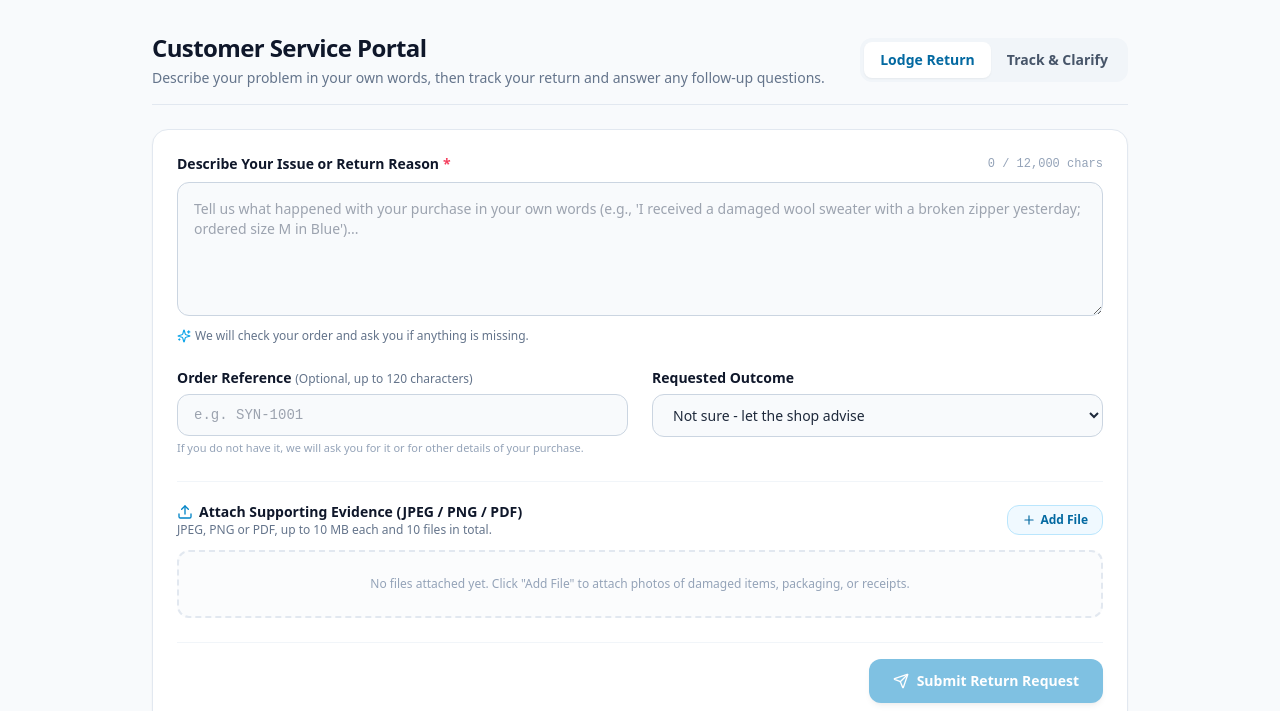
Test: CustomerPortal: My Requests › opens a listed request on Track & Clarify without typing its case ID
Click the button "Track & Clarify" at (1057, 60), box left=991, top=42, right=1124, bottom=78
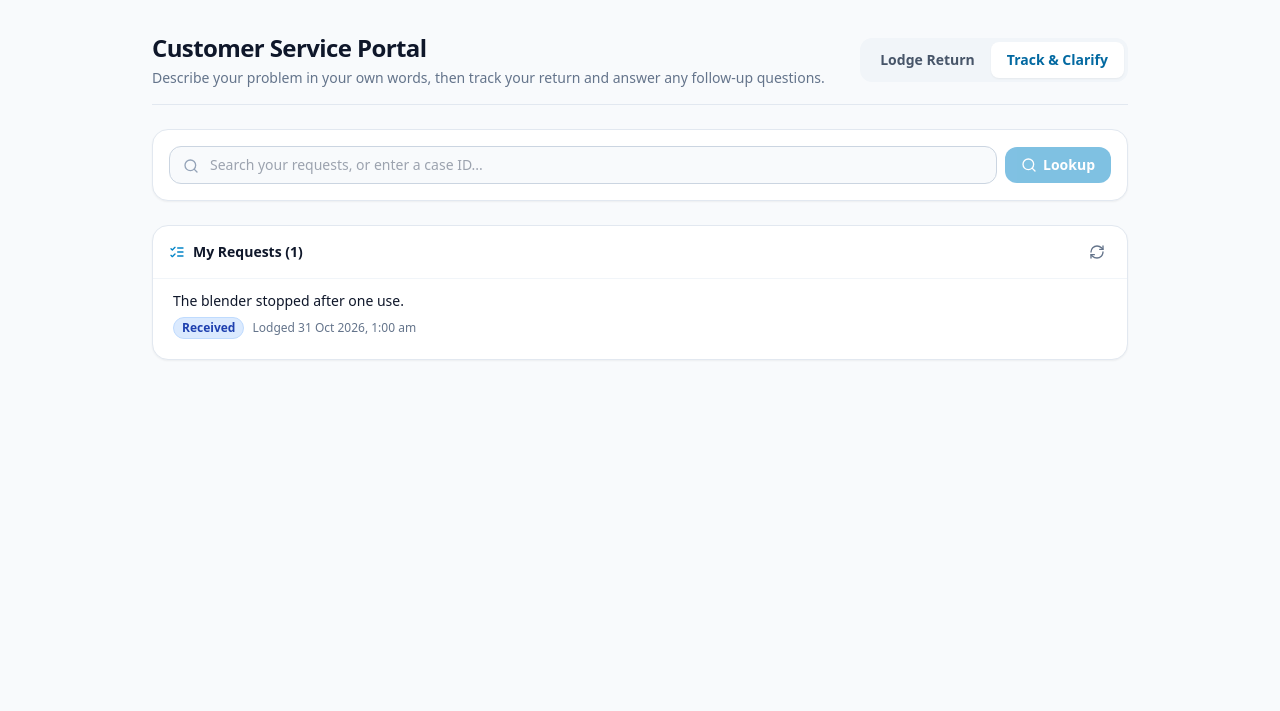
Click the button "The blender stopped after one use" at (288, 300), box left=161, top=279, right=1119, bottom=351
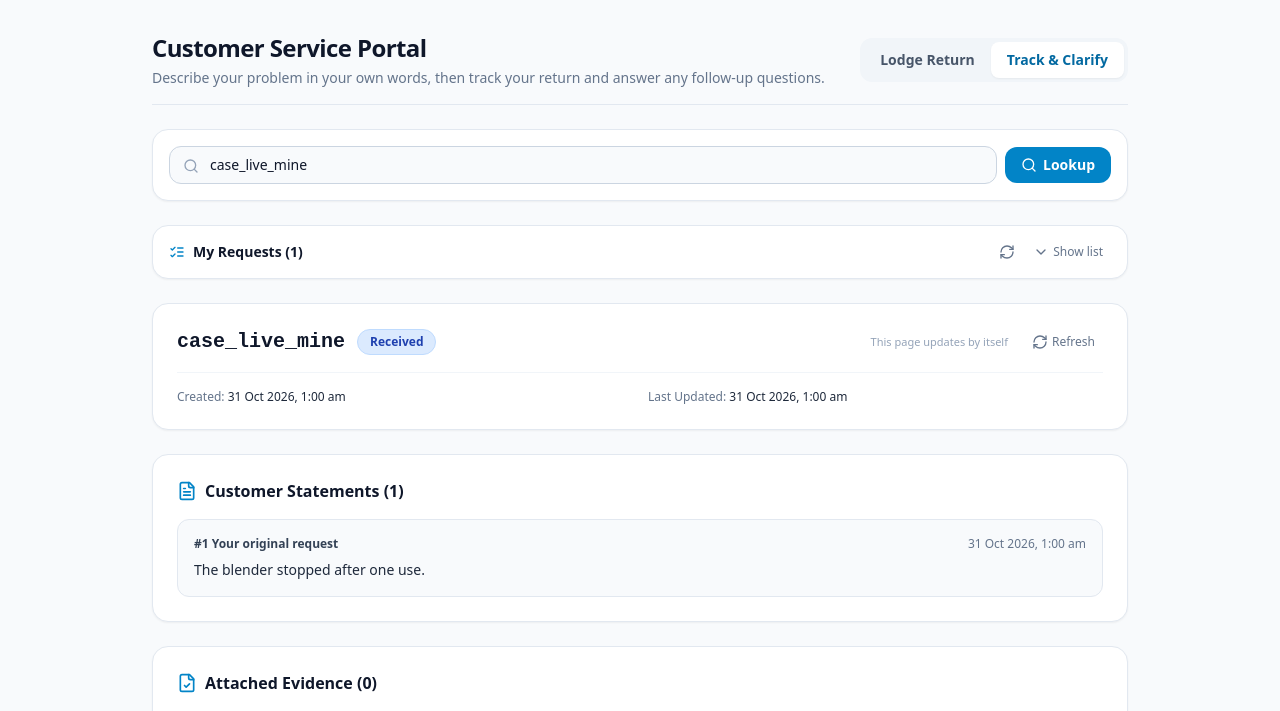
Result: the text "case_live_mine" is shown at left=177, top=328, right=345, bottom=356
Result: the field named "case ID" holds "case_live_mine" at left=169, top=146, right=997, bottom=184
Result: the list item "The blender stopped after one use. Received Lodged 31 Oct 2026, 1:00 am" is gone
